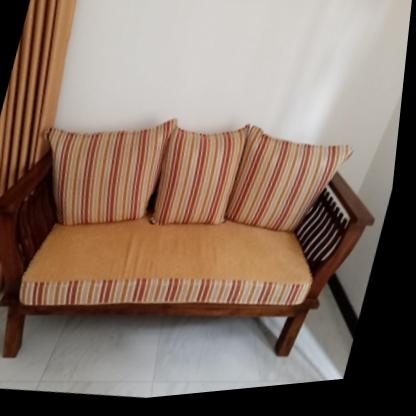Ceramic floor: (0, 292, 361, 401)
Sofa: (0, 85, 403, 412)
